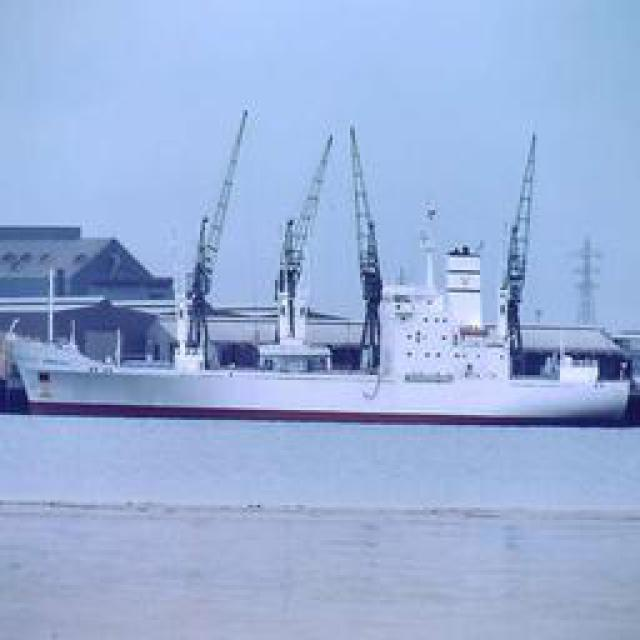Ship: (1, 111, 640, 432)
